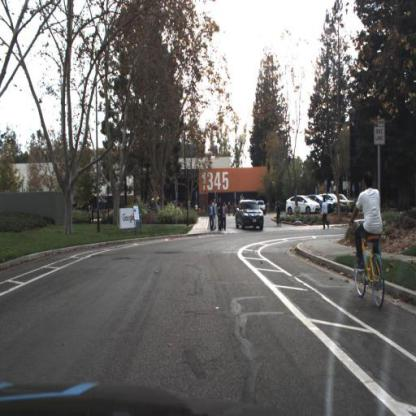biker: (349, 169, 387, 308), (274, 200, 284, 227)
car: (235, 198, 266, 232)
pedestrian: (322, 197, 332, 233), (217, 198, 225, 236), (208, 200, 217, 233), (222, 202, 228, 232), (214, 198, 219, 231)
